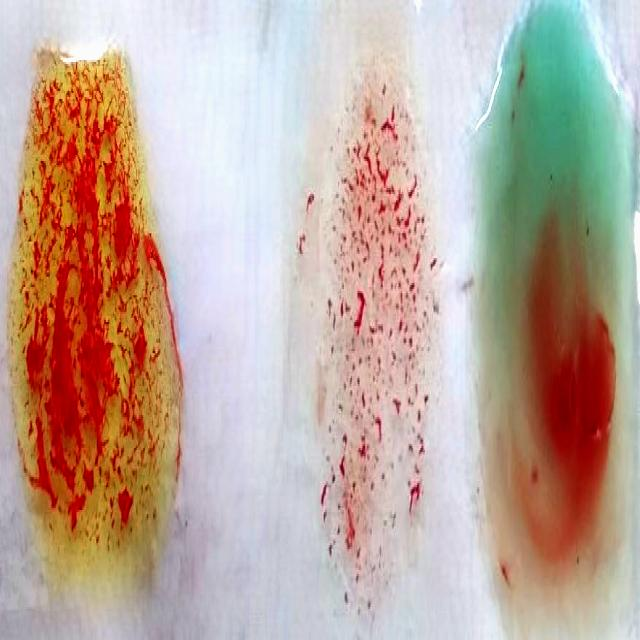B: (17, 31, 164, 590)
D: (311, 62, 440, 616)
